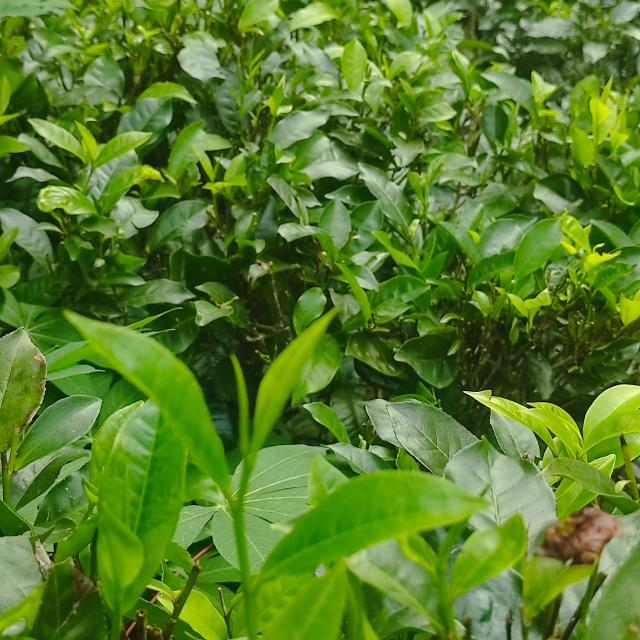unopened_leaf: (435, 473, 501, 570), (224, 346, 256, 468)
